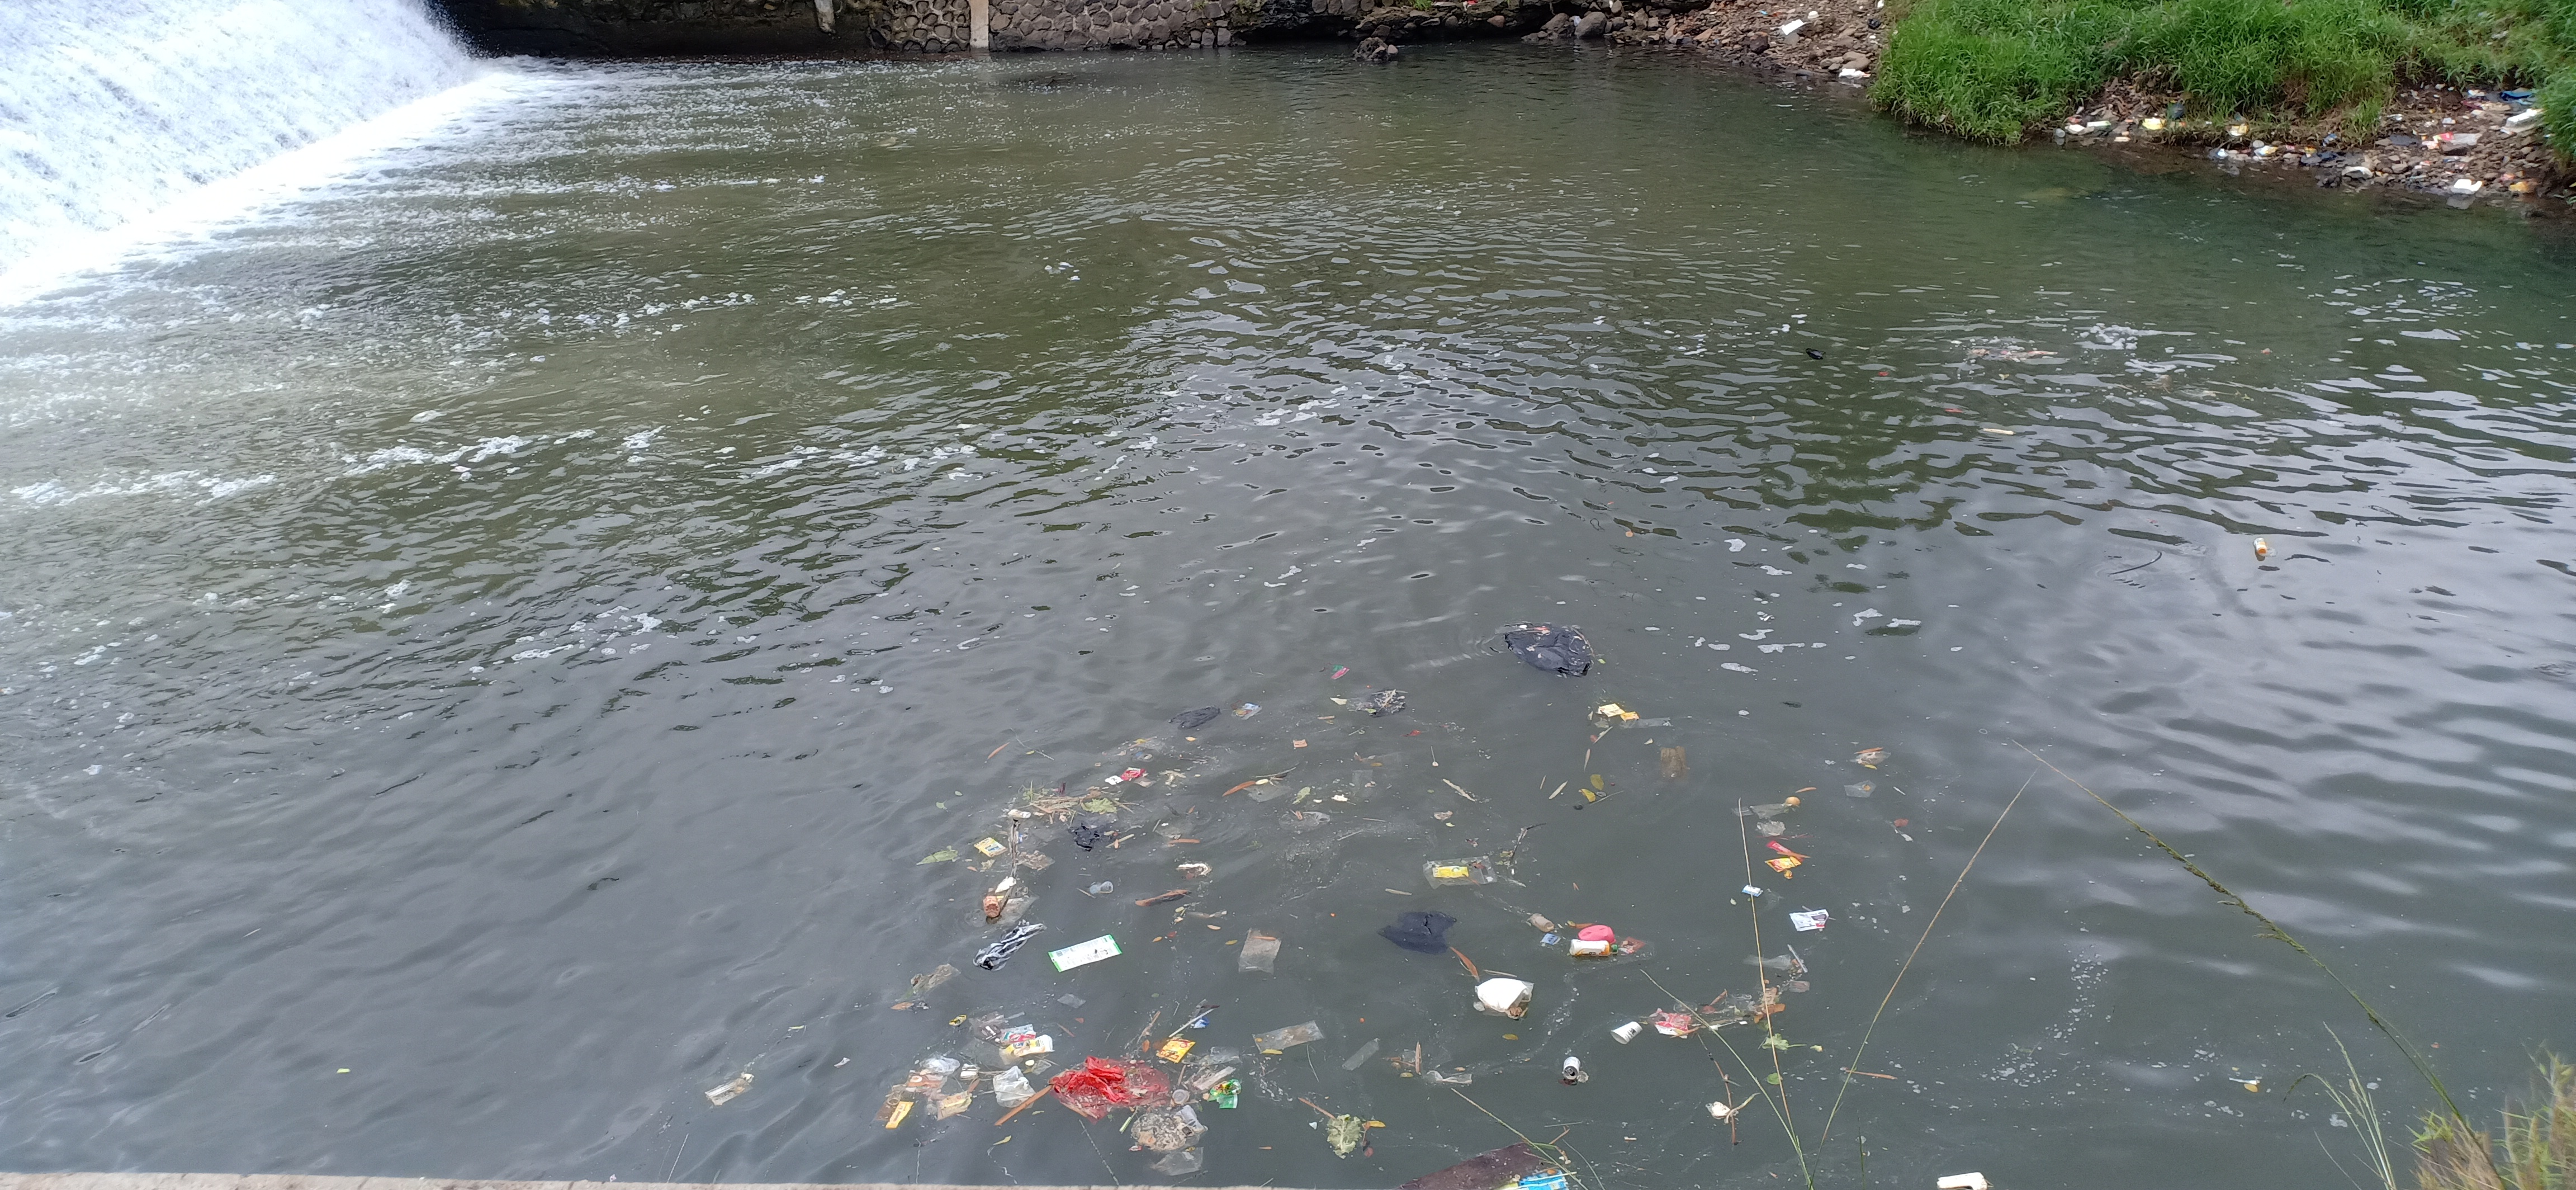Plastic Bottle: (1569, 939, 1618, 957), (1529, 912, 1554, 932), (982, 894, 999, 917), (2252, 537, 2269, 556), (1171, 1090, 1189, 1105), (2055, 128, 2065, 138), (2261, 347, 2272, 353), (2114, 136, 2129, 141), (2252, 155, 2259, 161)
